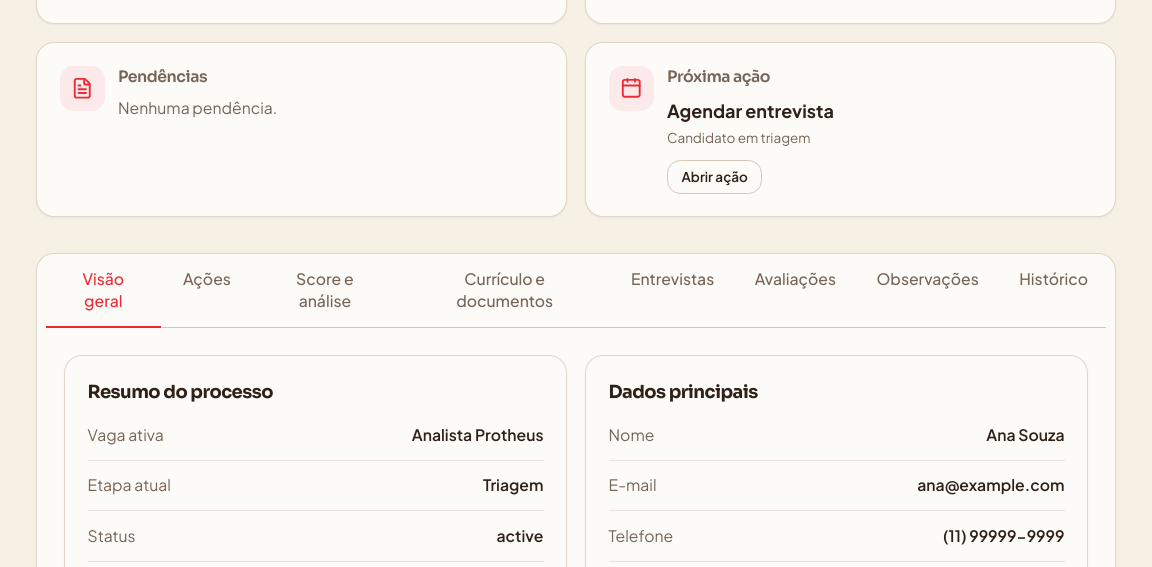
Scenario: Candidate workspace flow › /candidatos/:id renderiza workspace completo com ações portadas
(page scrolled)
Click the button "Ações" at (207, 291), box [165,254,249,328]
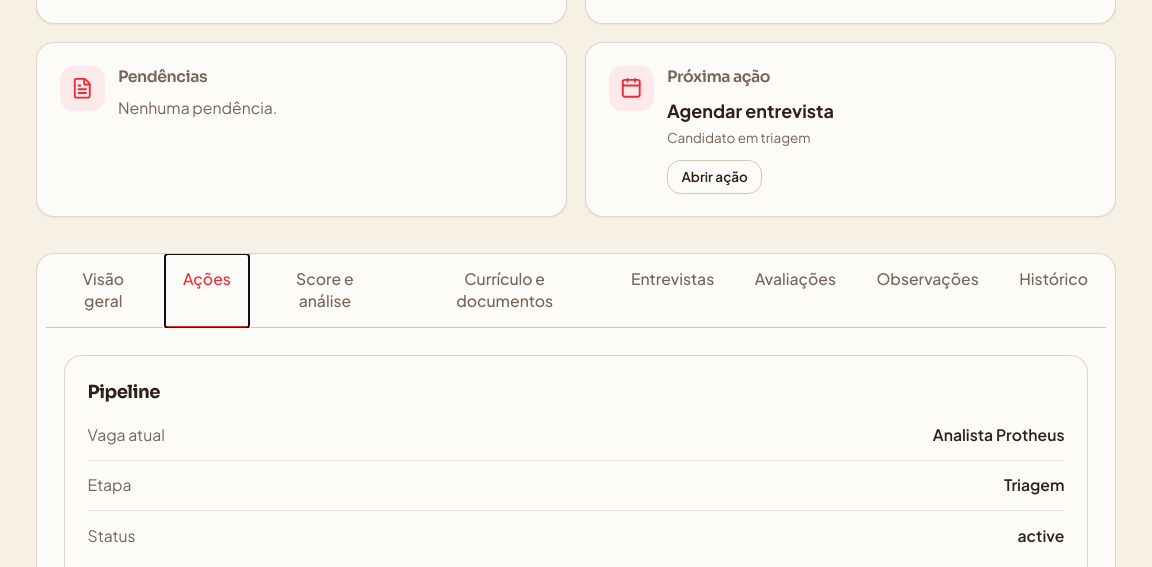
Click the button "Currículo e documentos" at (505, 291), box [401,254,608,328]
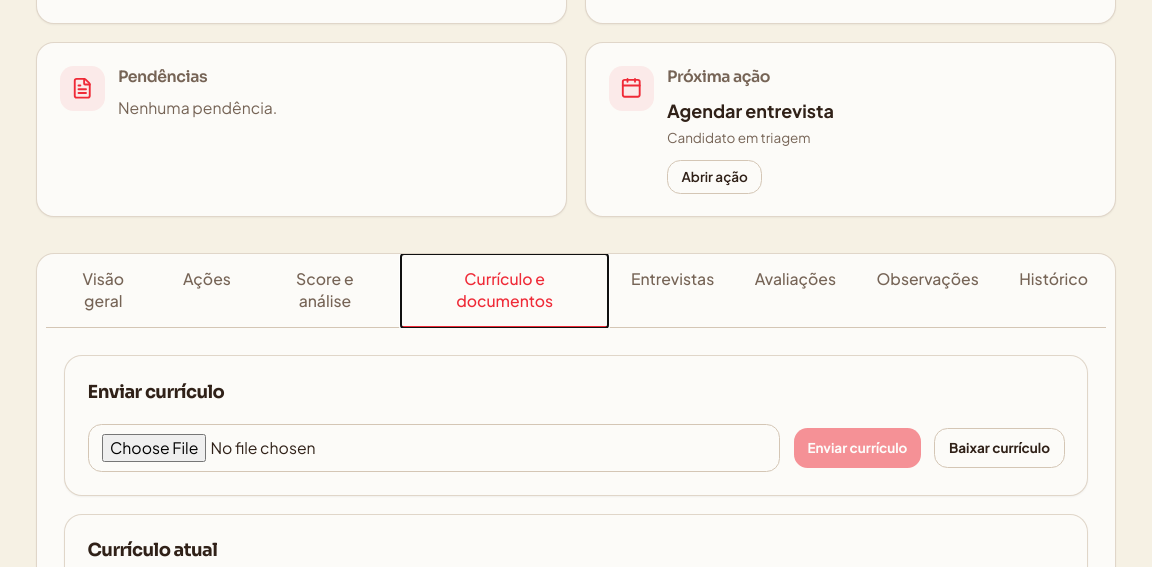
Result: the button "Enviar currículo" is shown at [794,428,921,468]
Result: the button "Baixar currículo" is shown at [934,428,1064,468]
Result: the heading "Currículo atual" is shown at [88,539,217,561]
Click the button "Entrevistas" at (673, 291), box [613,254,732,328]
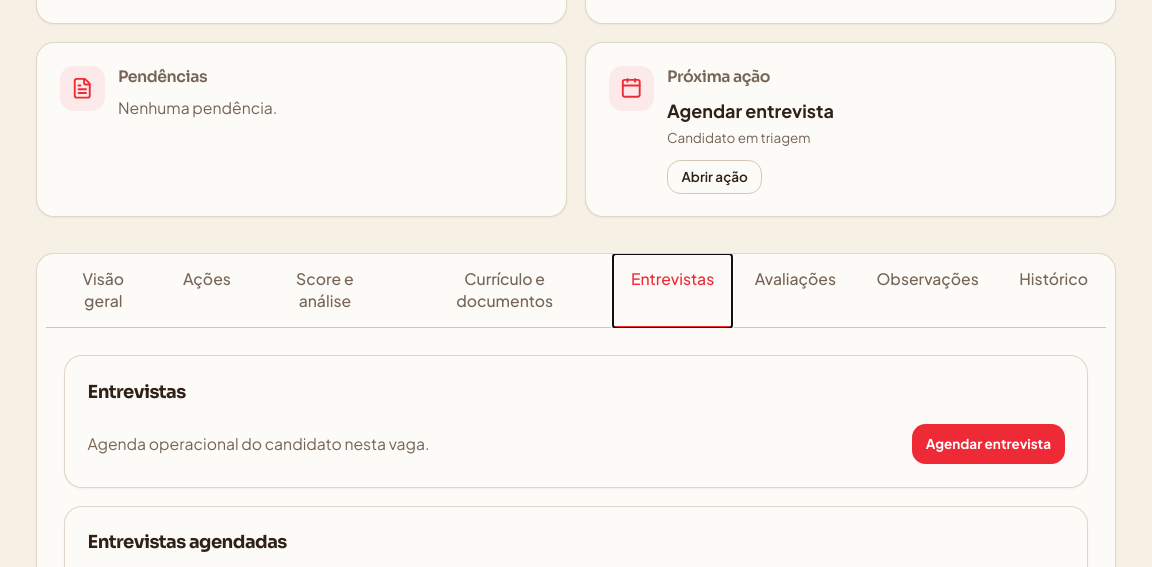
Result: the button "Agendar entrevista" is shown at [912,424,1064,464]
Click the button "Score e análise" at (325, 291), box [253,254,396,328]
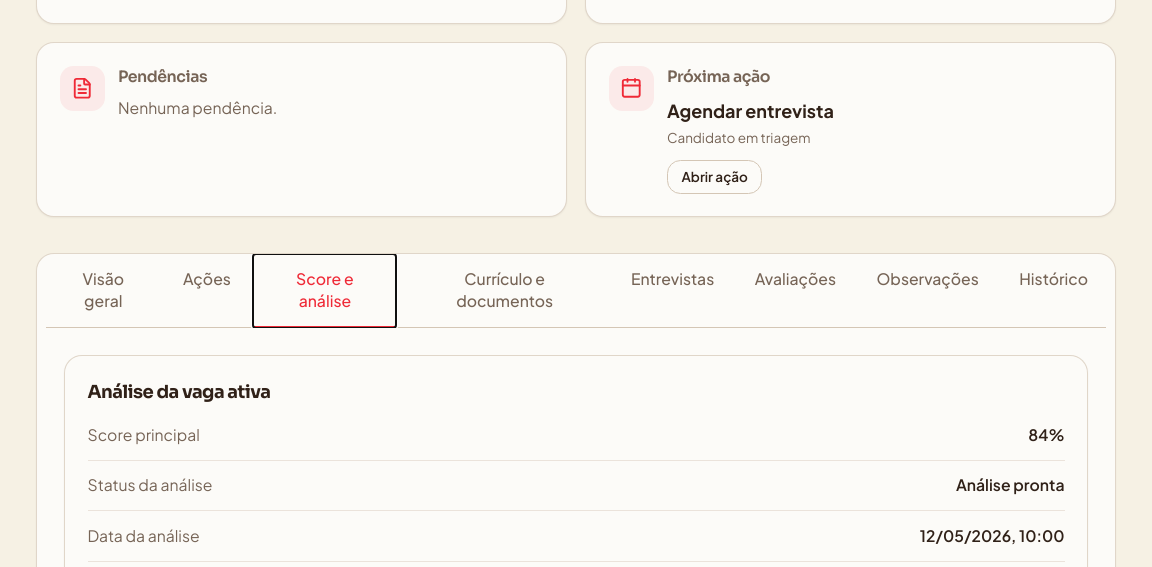
Result: the heading "Análise da vaga ativa" is shown at [88,381,270,403]
Click the button "Histórico" at (1054, 291), box [1001,254,1106,328]
(page scrolled)
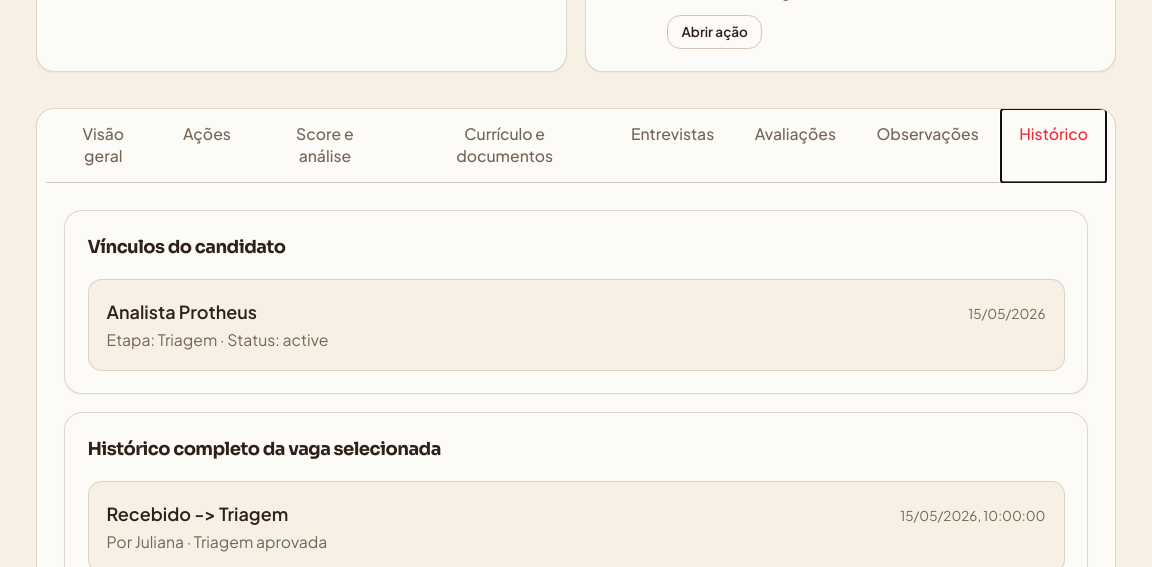
Result: the text "Por Juliana · Triagem aprovada" is shown at [106,532,327,551]
